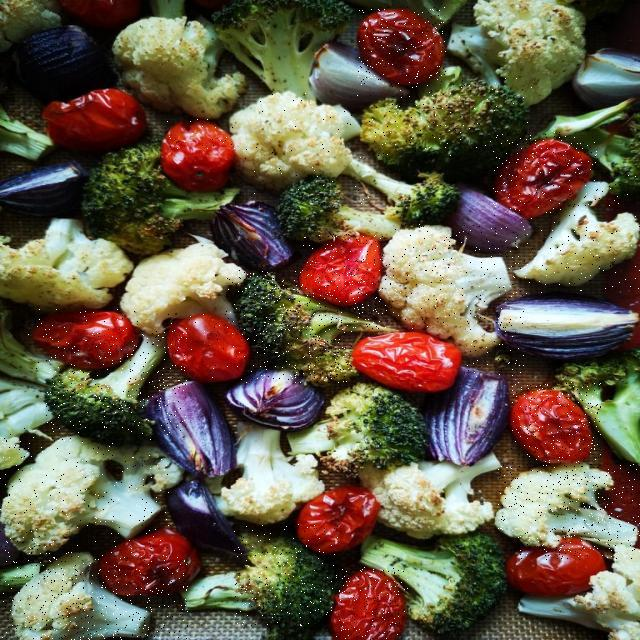Broccoli: (225, 270, 392, 383), (74, 149, 244, 249), (46, 329, 187, 437), (364, 532, 517, 630), (348, 78, 534, 158), (233, 524, 339, 626)
Cauliflower: (383, 224, 524, 378), (0, 428, 169, 551), (227, 86, 369, 206), (2, 552, 188, 640), (513, 174, 640, 294), (498, 464, 640, 560)
Tomato: (493, 132, 598, 216), (511, 382, 601, 470), (352, 329, 464, 393), (358, 7, 446, 87), (28, 308, 139, 370), (302, 234, 384, 306), (165, 314, 254, 380), (332, 567, 408, 640), (162, 119, 235, 193)
